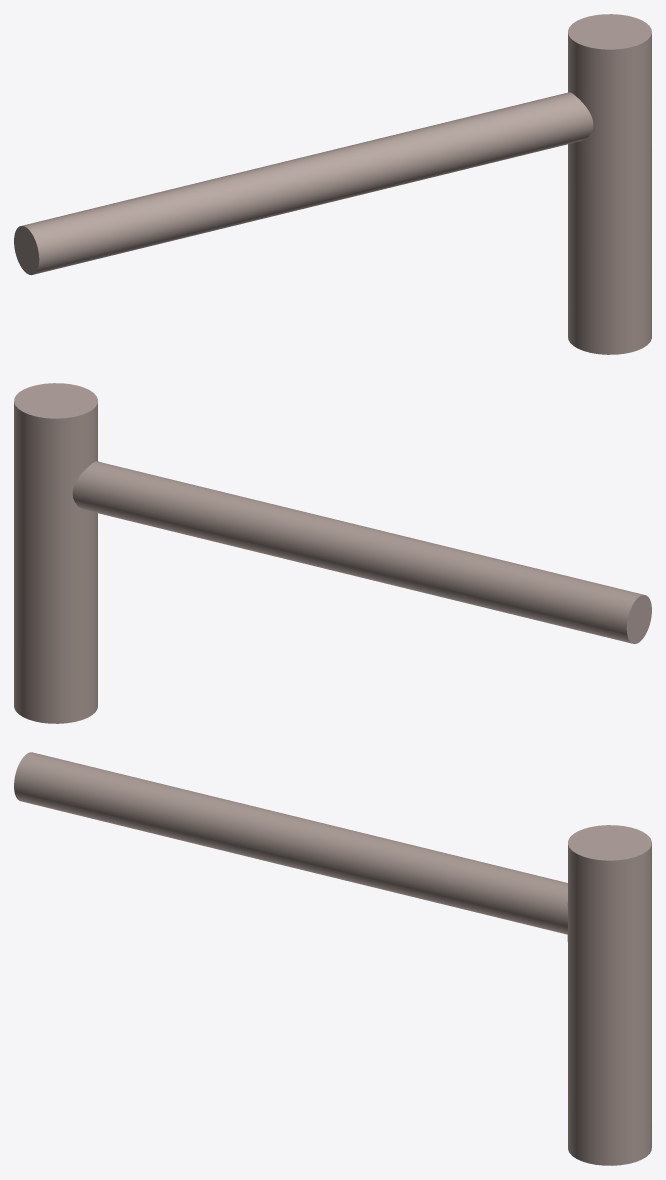
The model's file is 1017_fence_connect.glb.
3 views of the same model, one above another, from view 1: azimuth 30°, elevation 25°; view 2: azimuth 150°, elevation 25°; view 3: azimuth 330°, elevation 25° (orthographic).
Visible parts, largest first — view 1: Body; view 2: Body; view 3: Body.
Boxes of the visible parts, x1,y1,x2,y2 form: Body: [14, 14, 651, 354]; Body: [14, 383, 651, 723]; Body: [14, 752, 651, 1165].
Bounding box in the file's own units: 1.28 × 0.6 × 0.15.
